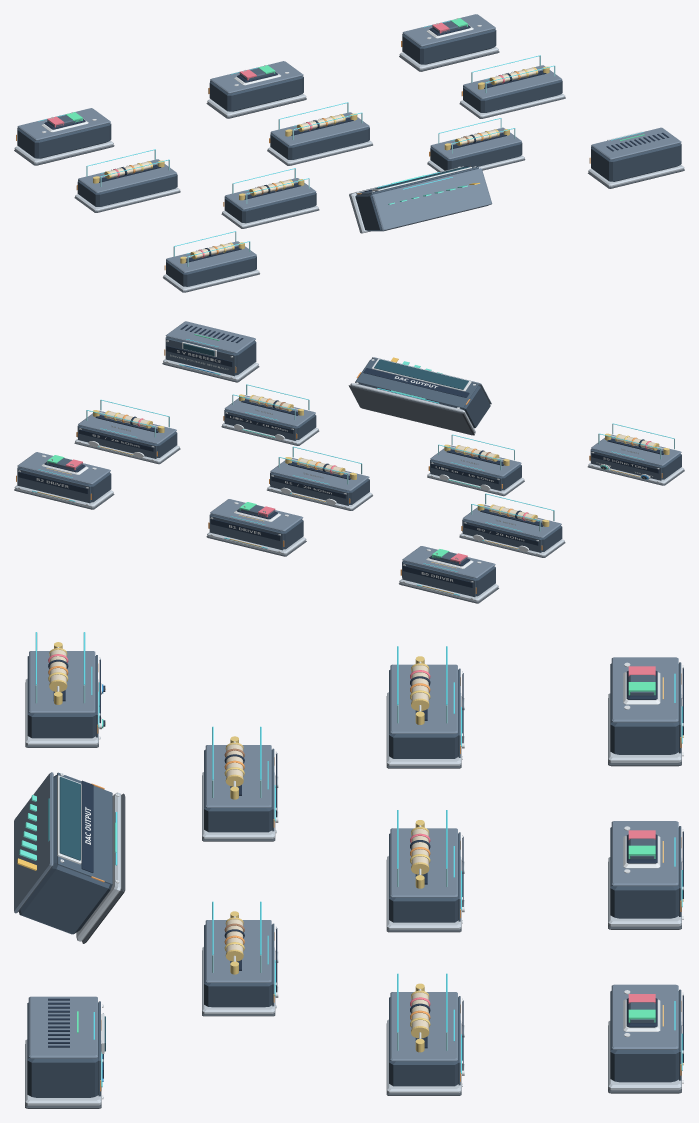
File: Level41_Fitted_Assembly.fbx
3 views of the same model, one above another, from view 1: azimuth 30°, elevation 25°; view 2: azimuth 150°, elevation 25°; view 3: azimuth 270°, elevation 25° (orthographic). The views are drawn at different scales.
Parts seen in each view (by area): view 1: L41_Monitor_Static__mid_steel, L41_Reference_Static__graphite, L41_Driver0_Static__graphite, L41_Driver2_Static__graphite, L41_Driver1_Static__graphite, L41_Branch0_Static__graphite, L41_Branch1_Static__graphite, L41_Branch2_Static__graphite, L41_Reference_Static__mid_steel, L41_Termination_Static__graphite, L41_Link10_Static__graphite, L41_Link21_Static__graphite (+18 smaller); view 2: L41_Monitor_Static__rubber, L41_Monitor_Static__deep_steel, L41_Reference_Static__mid_steel, L41_Branch0_Static__mid_steel, L41_Branch2_Static__mid_steel, L41_Branch1_Static__mid_steel, L41_Driver1_Static__mid_steel, L41_Driver2_Static__mid_steel, L41_Driver0_Static__mid_steel, L41_Link21_Static__mid_steel, L41_Monitor_Static__screen, L41_Reference_Static__deep_steel (+38 smaller); view 3: L41_Monitor_Static__graphite, L41_Reference_Static__mid_steel, L41_Branch2_Static__mid_steel, L41_Branch1_Static__mid_steel, L41_Branch0_Static__mid_steel, L41_Monitor_Static__mid_steel, L41_Link10_Static__mid_steel, L41_Link21_Static__mid_steel, L41_Termination_Static__mid_steel, L41_Driver1_Static__mid_steel, L41_Driver0_Static__mid_steel, L41_Driver2_Static__mid_steel (+24 smaller).
Part boxes in pixels (x1,y1,x2,y2): L41_Monitor_Static__mid_steel: (372, 168, 492, 230); L41_Reference_Static__graphite: (591, 143, 681, 181); L41_Driver0_Static__graphite: (17, 123, 111, 158); L41_Driver2_Static__graphite: (402, 29, 496, 64); L41_Driver1_Static__graphite: (209, 76, 303, 111); L41_Branch0_Static__graphite: (77, 174, 177, 206); L41_Branch1_Static__graphite: (270, 127, 369, 159); L41_Branch2_Static__graphite: (463, 80, 562, 112); L41_Reference_Static__mid_steel: (591, 127, 681, 159); L41_Termination_Static__graphite: (166, 256, 256, 286); L41_Link10_Static__graphite: (224, 192, 316, 223); L41_Link21_Static__graphite: (430, 142, 522, 170); L41_Monitor_Static__rubber: (348, 385, 474, 435); L41_Monitor_Static__deep_steel: (356, 358, 478, 407); L41_Reference_Static__mid_steel: (165, 321, 255, 378); L41_Branch0_Static__mid_steel: (463, 504, 561, 537); L41_Branch2_Static__mid_steel: (78, 410, 176, 444); L41_Branch1_Static__mid_steel: (270, 458, 369, 490); L41_Driver1_Static__mid_steel: (210, 499, 303, 552); L41_Driver2_Static__mid_steel: (17, 452, 110, 484); L41_Driver0_Static__mid_steel: (402, 546, 495, 578); L41_Link21_Static__mid_steel: (224, 395, 315, 442); L41_Monitor_Static__screen: (374, 359, 468, 389); L41_Reference_Static__deep_steel: (165, 338, 235, 376); L41_Monitor_Static__graphite: (19, 775, 112, 934); L41_Reference_Static__mid_steel: (28, 996, 103, 1097); L41_Branch2_Static__mid_steel: (390, 992, 457, 1061); L41_Branch1_Static__mid_steel: (390, 828, 457, 897); L41_Branch0_Static__mid_steel: (390, 664, 457, 733); L41_Monitor_Static__mid_steel: (14, 772, 117, 913); L41_Link10_Static__mid_steel: (205, 745, 276, 831); L41_Link21_Static__mid_steel: (205, 920, 276, 1006); L41_Termination_Static__mid_steel: (29, 651, 100, 738); L41_Driver1_Static__mid_steel: (611, 821, 678, 886); L41_Driver0_Static__mid_steel: (611, 657, 678, 722); L41_Driver2_Static__mid_steel: (611, 984, 678, 1049).
Bounding box in the file's own units: 175 × 15.67 × 116.
